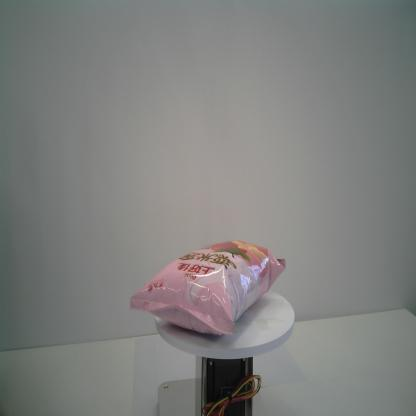Puffed Food: (130, 240, 286, 336)
